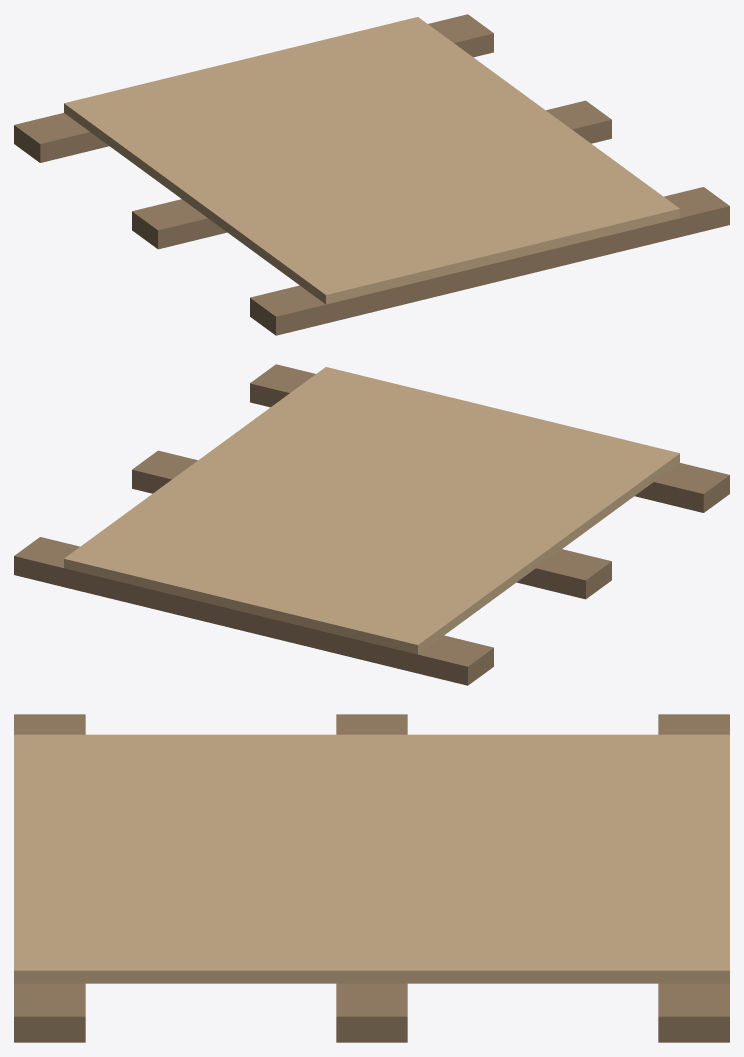
File: 18-Casas_piso_madera.glb
The picture shows the model from 3 angles, top to bottom: view 1: azimuth 30°, elevation 25°; view 2: azimuth 150°, elevation 25°; view 3: azimuth 270°, elevation 25°; orthographic projection. The views are drawn at different scales.
Parts seen in each view (by area): view 1: SM_Piso_M_Piso_Madera_Tabla, SM_Piso_M_Piso_Madera_Viga; view 2: SM_Piso_M_Piso_Madera_Tabla, SM_Piso_M_Piso_Madera_Viga; view 3: SM_Piso_M_Piso_Madera_Tabla, SM_Piso_M_Piso_Madera_Viga.
Part boxes in pixels (x1,y1,x2,y2): SM_Piso_M_Piso_Madera_Tabla: [64, 17, 679, 304]; SM_Piso_M_Piso_Madera_Viga: [14, 14, 729, 335]; SM_Piso_M_Piso_Madera_Tabla: [64, 367, 679, 654]; SM_Piso_M_Piso_Madera_Viga: [14, 364, 729, 685]; SM_Piso_M_Piso_Madera_Tabla: [14, 734, 729, 983]; SM_Piso_M_Piso_Madera_Viga: [14, 714, 729, 1042].
Bounding box in the file's own units: 1 × 0.06 × 1.
